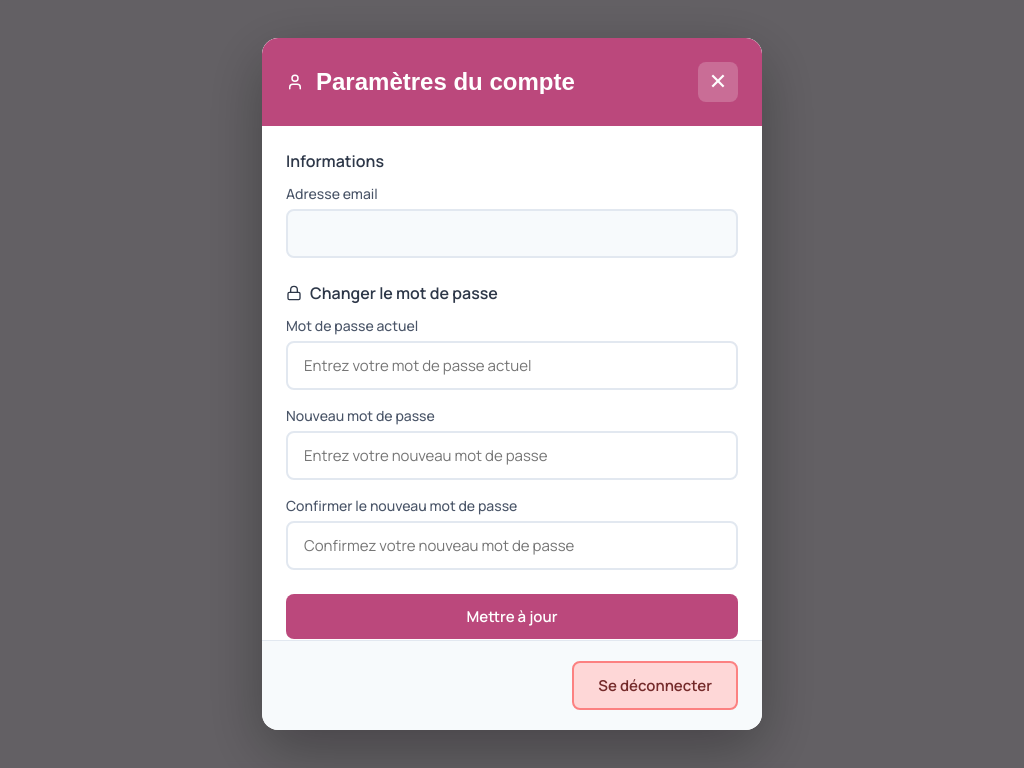
Test case: AccountSettingsModal › affiche une erreur si le nouveau mot de passe est trop court
This screenshot has width=1024, height=768.
Type "oldpass" into the password field labelled "Mot de passe actuel" at coordinates (512, 366), box [286, 341, 738, 390]
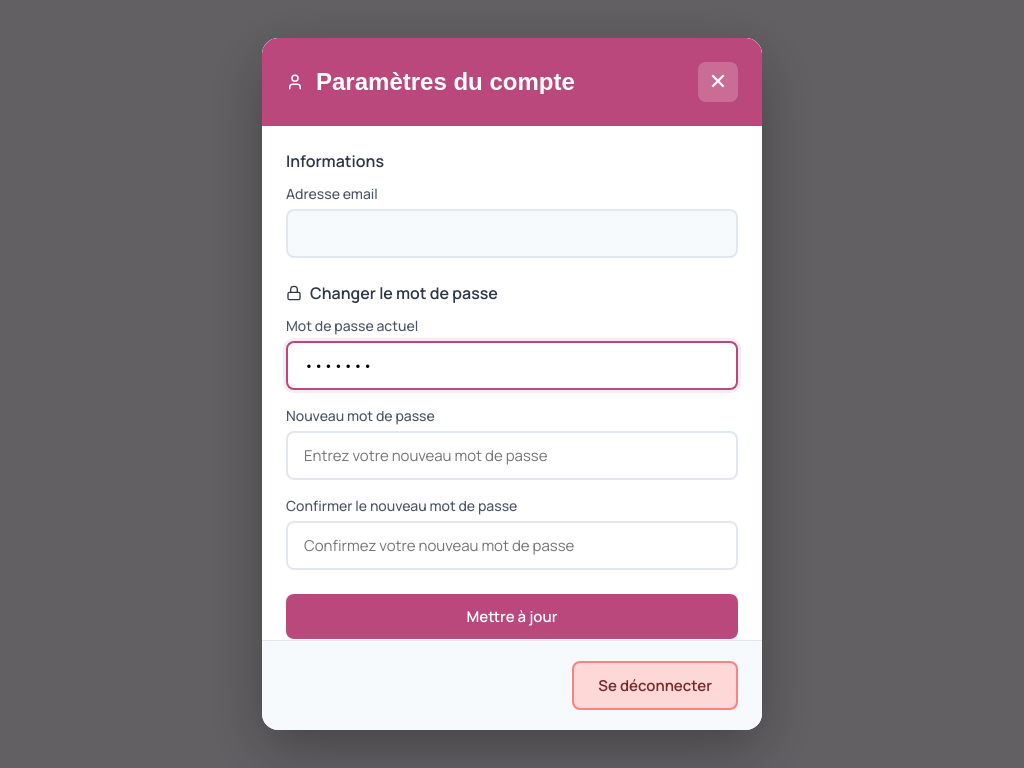
Type "short" into the password field labelled "Nouveau mot de passe" at coordinates (512, 456), box [286, 431, 738, 480]
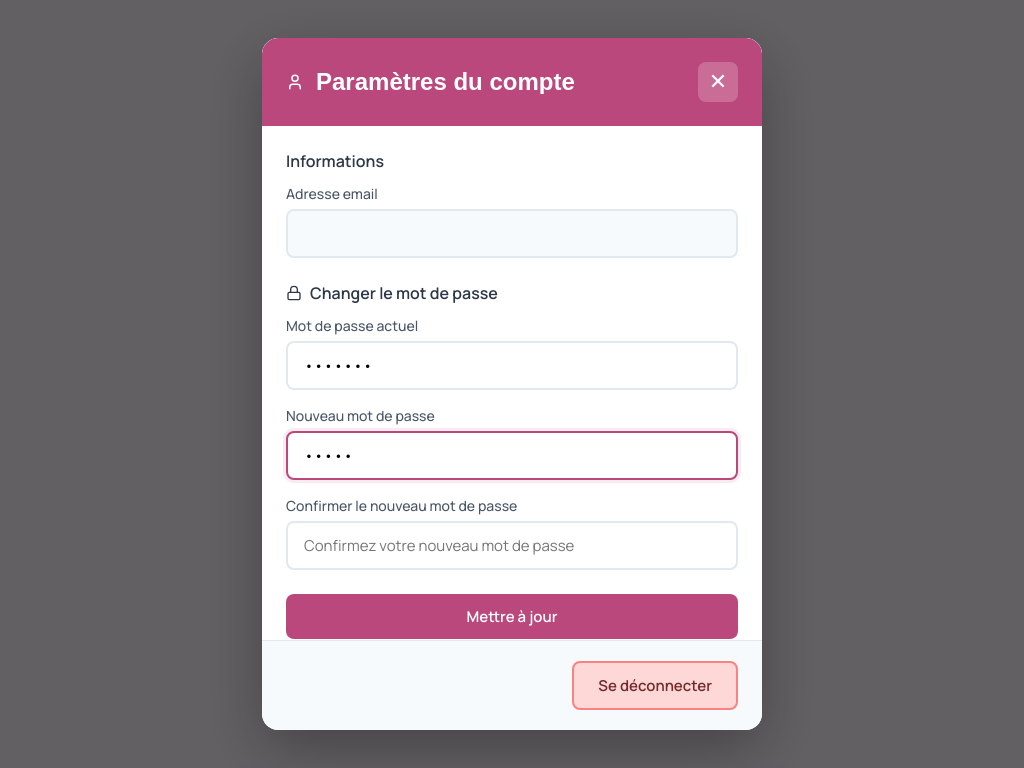
Type "short" into the password field labelled "Confirmer le nouveau mot de passe" at coordinates (512, 546), box [286, 521, 738, 570]
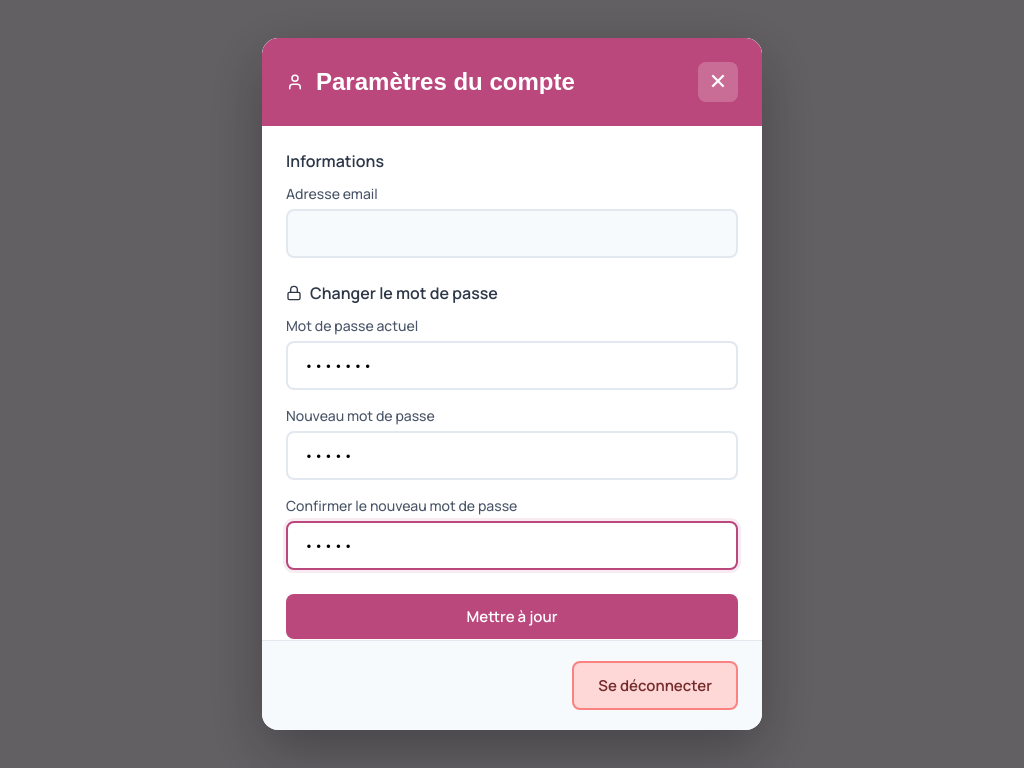
Click the button "Mettre à jour" at coordinates (512, 617), box [286, 594, 738, 639]
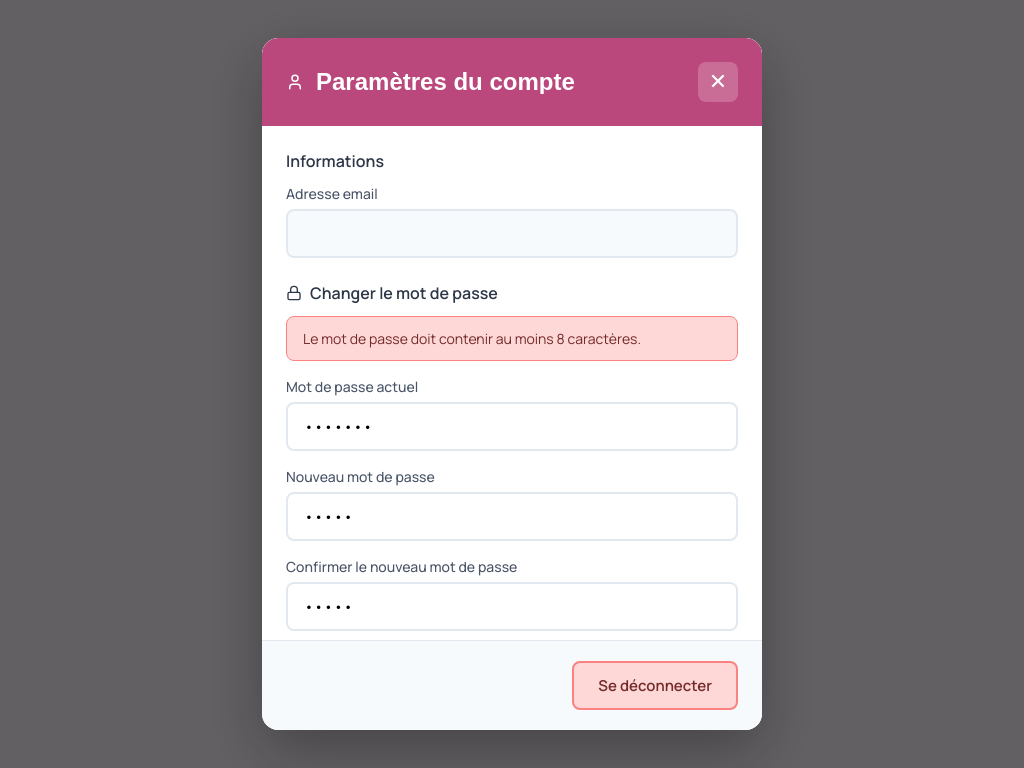
expect the text "Le mot de passe doit contenir au moins 8 caractères." is shown: met, box [286, 316, 738, 361]
